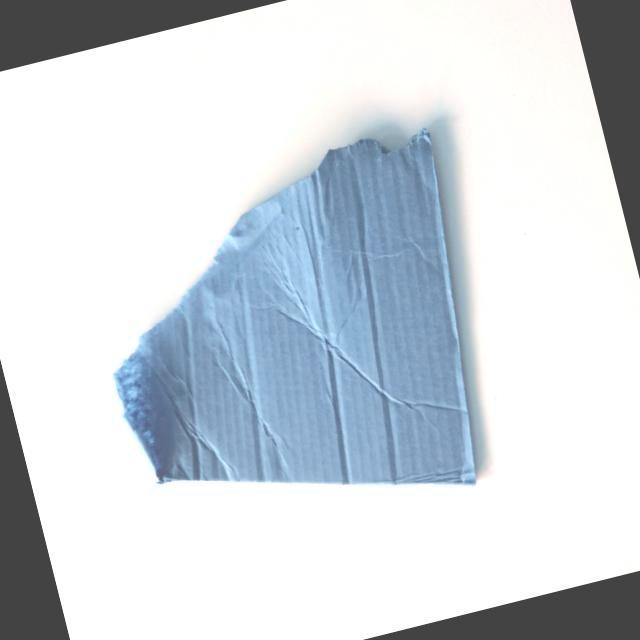cardboard: (43, 61, 576, 578)
